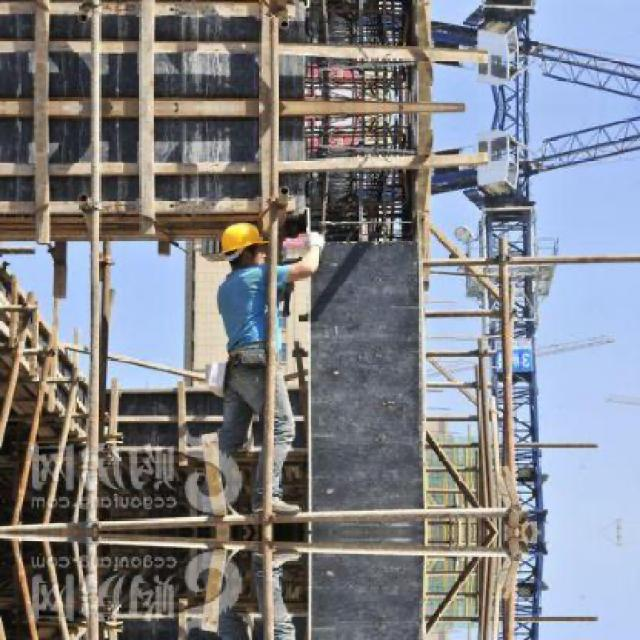helmet: (217, 218, 266, 270)
